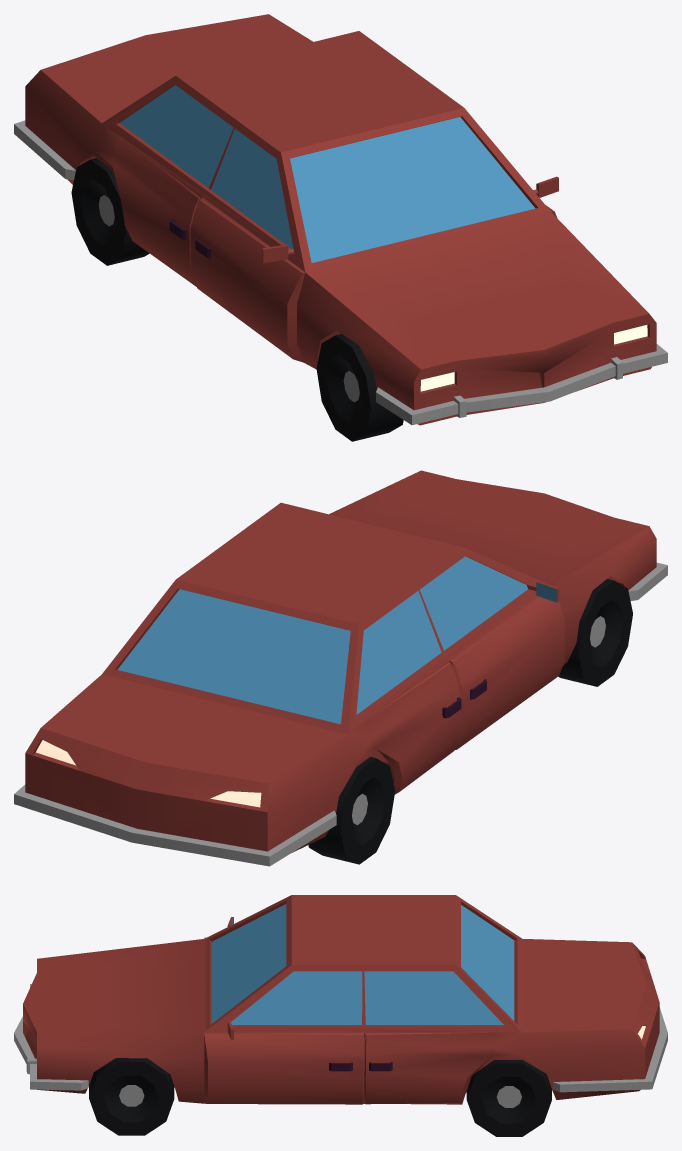
File: CAR.fbx
3 views of the same model, one above another, from view 1: azimuth 30°, elevation 25°; view 2: azimuth 150°, elevation 25°; view 3: azimuth 270°, elevation 25° (orthographic). The views are drawn at different scales.
Parts seen in each view (by area): view 1: Object003, Object003.001, Object006, Object007; view 2: Object003, Object003.001, Object007, Object006; view 3: Object003, Object003.001, Object004, Object008.
Boxes of the visible parts, <box> form: Object003: <box>14,14,667,425</box>; Object003.001: <box>120,85,535,262</box>; Object006: <box>316,334,403,441</box>; Object007: <box>71,158,149,265</box>; Object003: <box>14,470,667,866</box>; Object003.001: <box>117,556,556,724</box>; Object007: <box>308,757,394,864</box>; Object006: <box>558,579,632,686</box>; Object003: <box>14,895,667,1104</box>; Object003.001: <box>211,904,514,1024</box>; Object004: <box>89,1058,174,1135</box>; Object008: <box>466,1060,551,1136</box>.
Size of the model in its own units: 101 by 64.66 by 247.
